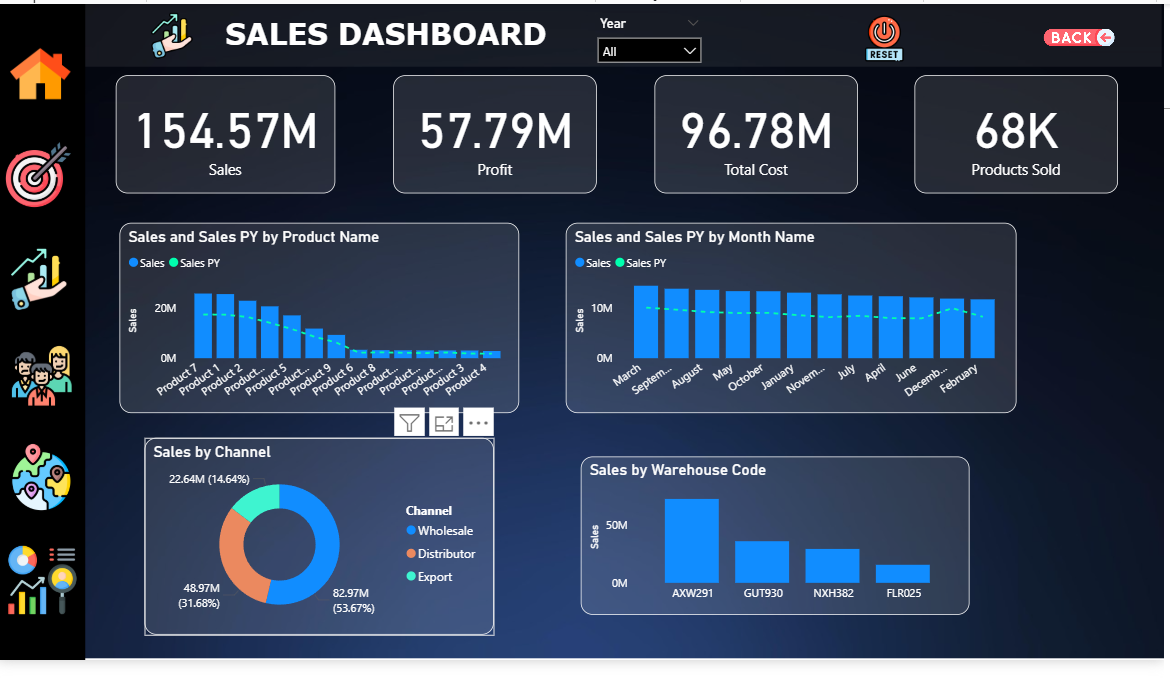

The dashboard page shown, as its layout file describes it:
{"tool":"powerbi","page":{"name":"Sales Dashboard","canvas":[1280,720],"ordinal":2},"visuals":[{"type":"shape","box":[94.3,0,1182.8,69],"z":0},{"type":"textbox","box":[244.9,7.8,379,54.4],"z":1000},{"type":"slicer","fields":{"Values":["DAX DateTable.Year"]},"box":[648.3,7.8,134.1,70],"z":2000},{"type":"lineStackedColumnComboChart","fields":{"Category":["Products_Data.Product Name"],"Y":["Measured table.Sales"],"Y2":["Measured table.Sales PY"]},"box":[134.1,240.1,438.3,209],"z":3000},{"type":"lineStackedColumnComboChart","fields":{"Y":["Measured table.Sales"],"Y2":["Measured table.Sales PY"],"Category":["DAX DateTable.Month Name"]},"box":[624,240.1,494.7,209],"z":4000},{"type":"clusteredColumnChart","fields":{"Y":["Measured table.Sales"],"Category":["Sales_Data.Warehouse Code"]},"box":[640.5,496.6,426.7,174],"z":5000},{"type":"donutChart","fields":{"Category":["Sales_Data.Channel"],"Y":["Measured table.Sales"]},"box":[162.3,476.2,382.9,215.8],"z":6000},{"type":"shape","box":[0,0,97.2,720.2],"z":7000},{"type":"card","fields":{"Values":["Measured table.Sales"]},"box":[130.2,77.8,241,129.3],"z":8000},{"type":"card","fields":{"Values":["Measured table.Profit"]},"box":[434.1,77.8,223.5,129.3],"z":9000},{"type":"card","fields":{"Values":["Measured table.Total Cost"]},"box":[720.5,77.8,223.5,129.3],"z":10000},{"type":"card","fields":{"Values":["Measured table.Products Sold"]},"box":[1006.9,77.8,223.5,129.3],"z":11000},{"type":"image","box":[4.9,476,86.5,86.5],"z":12000},{"type":"image","box":[7.8,364.1,81.6,86.5],"z":13000},{"type":"image","box":[2.9,142.9,86.5,87.5],"z":14000},{"type":"image","box":[5.8,259.5,80.7,85.5],"z":15000},{"type":"image","box":[5.8,588,88.4,87.5],"z":16000},{"type":"image","box":[4.9,38.9,83.6,75.8],"z":16003},{"type":"image","box":[1143,0,87.5,73.9],"z":16006},{"type":"image","box":[943.7,4.9,60.3,64.1],"z":16007},{"type":"image","box":[162.3,3.9,60.3,62.2],"z":16009}]}

Visuals, with their boxes on the page's 1280x720 design canvas (x1, y1, x2, y2). These are canvas units, not pixel positions in the 1170x685 screenshot, which may show the page scaled, cropped or inside an application window:
shape: crop(94, 0, 1277, 69)
textbox: crop(245, 8, 624, 62)
slicer - DAX DateTable.Year: crop(648, 8, 782, 78)
lineStackedColumnComboChart - Products_Data.Product Name x Measured table.Sales: crop(134, 240, 572, 449)
lineStackedColumnComboChart - Measured table.Sales x Measured table.Sales PY: crop(624, 240, 1119, 449)
clusteredColumnChart - Measured table.Sales x Sales_Data.Warehouse Code: crop(640, 497, 1067, 671)
donutChart - Sales_Data.Channel x Measured table.Sales: crop(162, 476, 545, 692)
shape: crop(0, 0, 97, 720)
card - Measured table.Sales: crop(130, 78, 371, 207)
card - Measured table.Profit: crop(434, 78, 658, 207)
card - Measured table.Total Cost: crop(720, 78, 944, 207)
card - Measured table.Products Sold: crop(1007, 78, 1230, 207)
image: crop(5, 476, 91, 562)
image: crop(8, 364, 89, 451)
image: crop(3, 143, 89, 230)
image: crop(6, 260, 86, 345)
image: crop(6, 588, 94, 676)
image: crop(5, 39, 88, 115)
image: crop(1143, 0, 1230, 74)
image: crop(944, 5, 1004, 69)
image: crop(162, 4, 223, 66)
